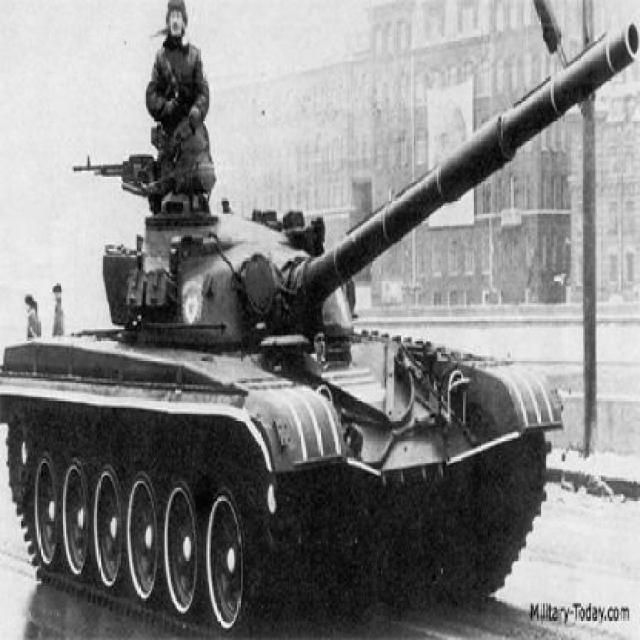Person: (144, 1, 212, 218)
Tank: (1, 16, 639, 639)
